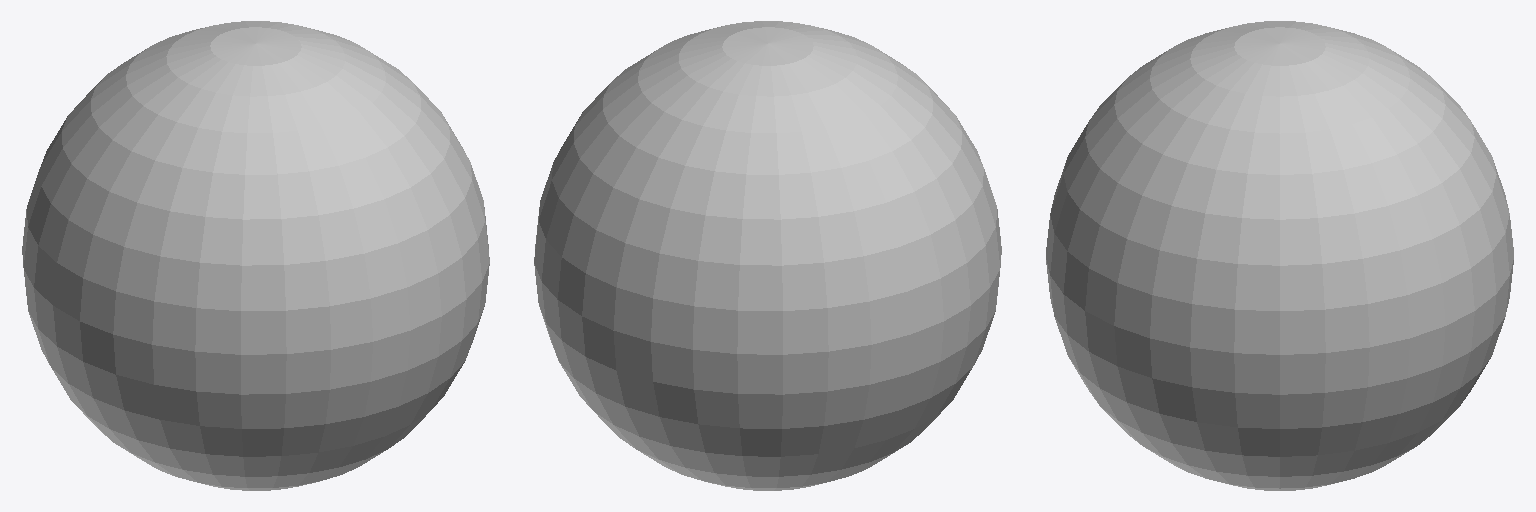
Rendered from texture_ball.obj.
3 views of the same model, side by side, from view 1: azimuth 30°, elevation 25°; view 2: azimuth 150°, elevation 25°; view 3: azimuth 270°, elevation 25° (orthographic).
Parts seen in each view (by area): view 1: Sphere; view 2: Sphere; view 3: Sphere.
Part boxes in pixels (x1,y1,x2,y2): Sphere: (22,21,489,490); Sphere: (534,21,1001,490); Sphere: (1046,21,1513,490).
Size of the model in its own units: 1.98 by 1.98 by 1.98.